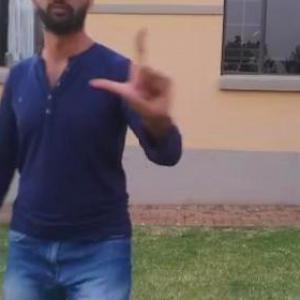land_hand: (86, 23, 178, 126)
